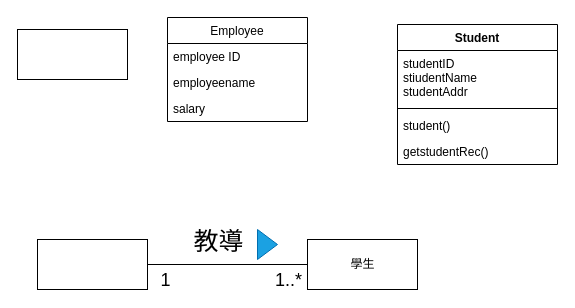
Image size: 575x308. Some labels were removed from this diagram. The centre of each missing label's shape, as x and y in pixels:
"Custumer" belongs at point (72, 54).
"老師" belongs at point (92, 264).
